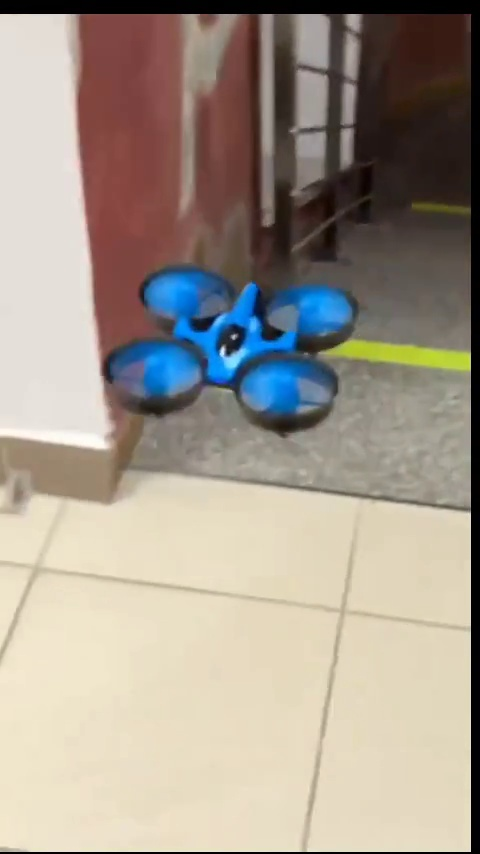drone: (103, 268, 353, 428)
